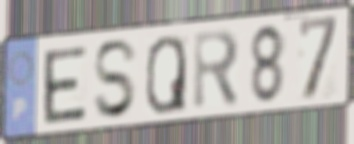7: (297, 13, 341, 103)
8: (249, 22, 287, 106)
E: (41, 43, 89, 127)
Q: (144, 32, 188, 116)
R: (192, 26, 242, 114)
S: (92, 37, 140, 122)
